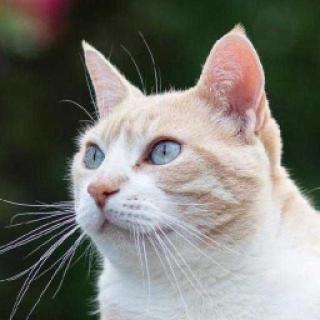cat: (67, 35, 295, 271)
nose: (84, 170, 122, 212)
